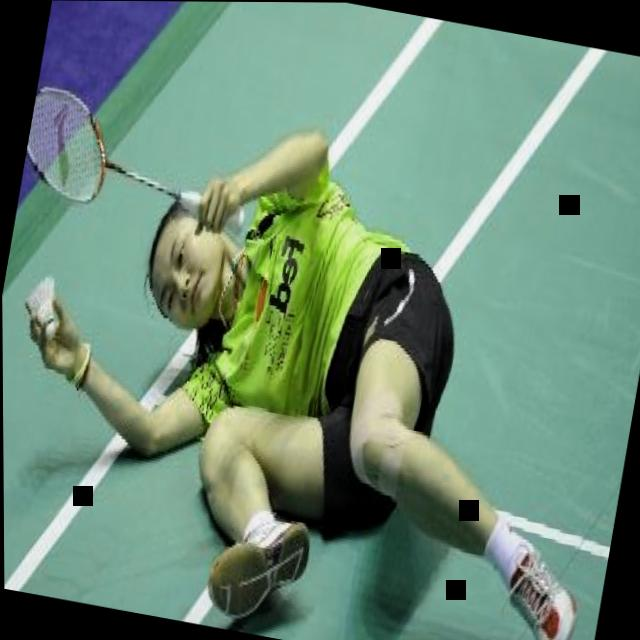Fall-Detected: (0, 50, 640, 640)
